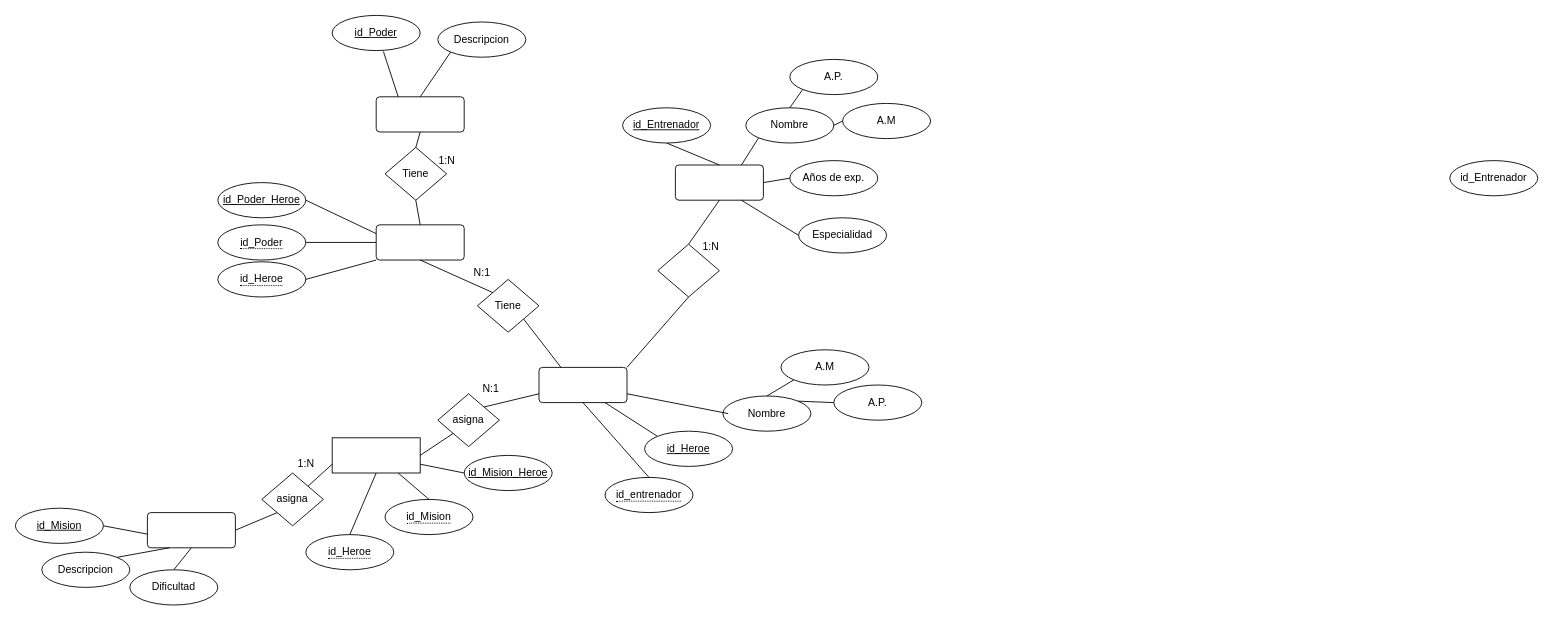
Some shapes in this 1553 by 620 pixel diagram are drawn without their labels. Here are the shapes that lost their labels. From the top down, the box of each, then its label:
(375, 96, 464, 132): Poder
(675, 164, 763, 200): Entrenador
(375, 224, 464, 260): Poder_Heroe
(657, 243, 719, 297): entrena
(538, 367, 627, 403): Heroe
(331, 437, 420, 473): Mision_Heroe
(147, 512, 235, 548): Mision
